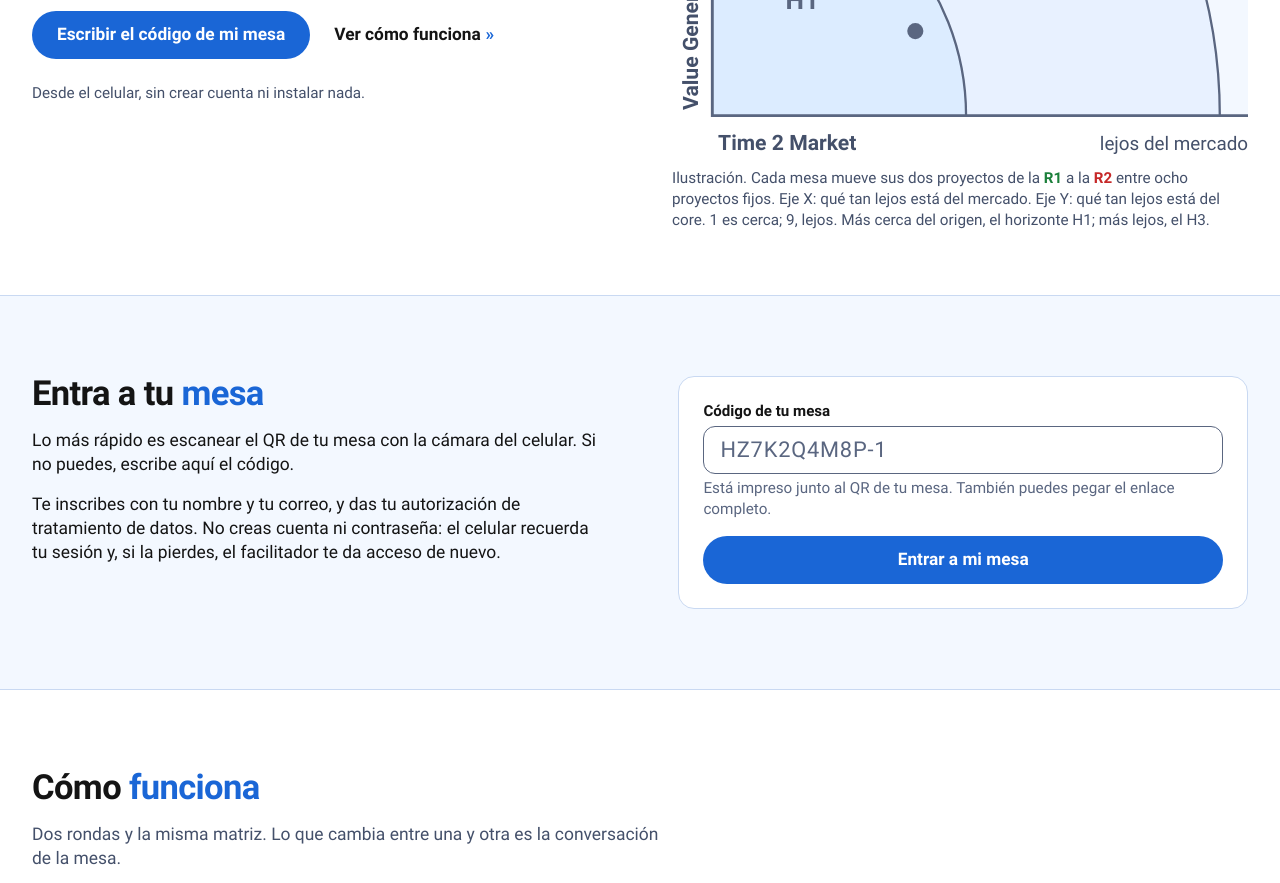
Test case: landing de la raíz › la inscripción que aún no abre también se explica
The width and height of the screenshot is (1280, 883).
(page scrolled)
Type "HZ7K2-2" into the field labelled "Código de tu mesa". click: (963, 450)
box: [703,426,1223,474]
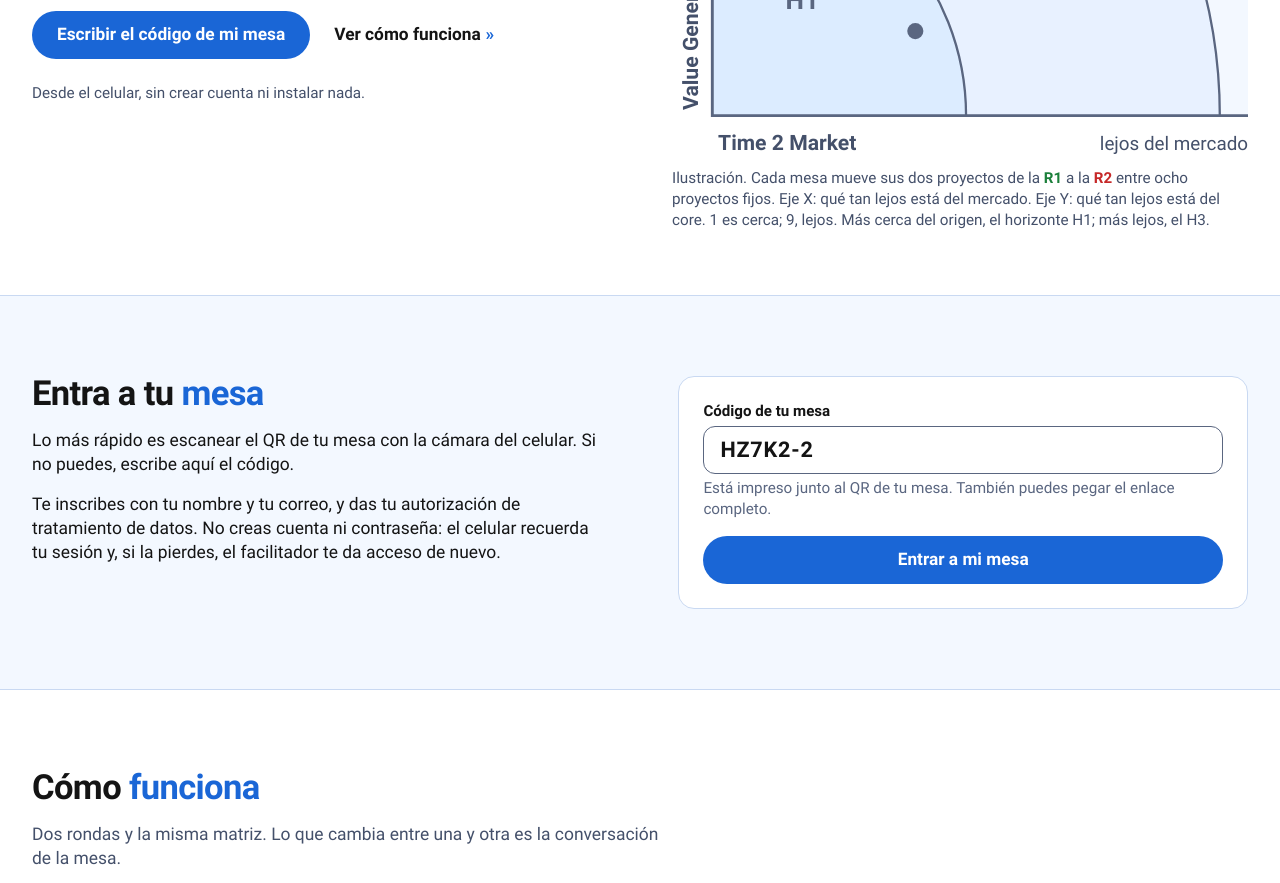
Click the button "Entrar a mi mesa". click: (963, 560)
box: [703,536,1223,584]
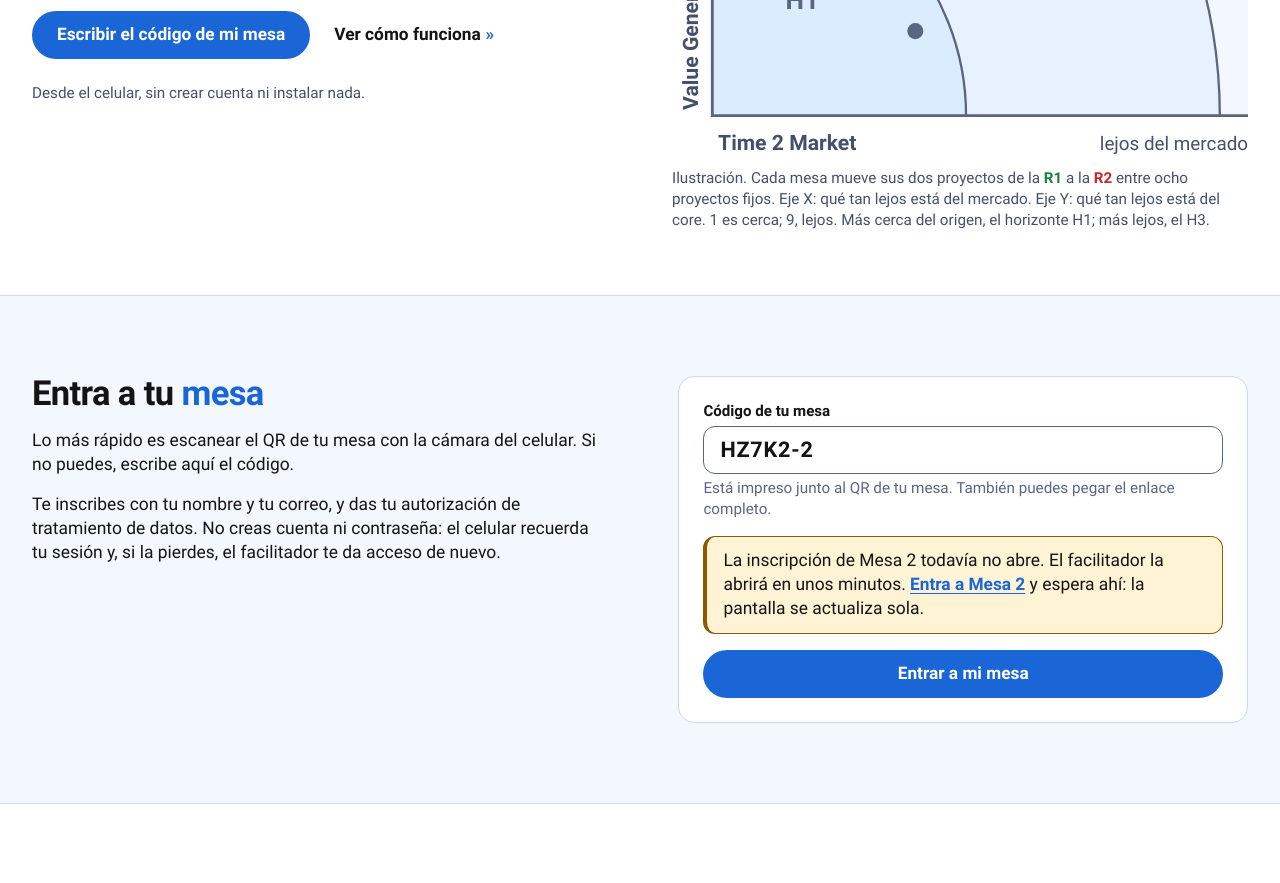
Now the message shows "La inscripción de Mesa 2 todavía no abre", box [703,536,1223,634]
